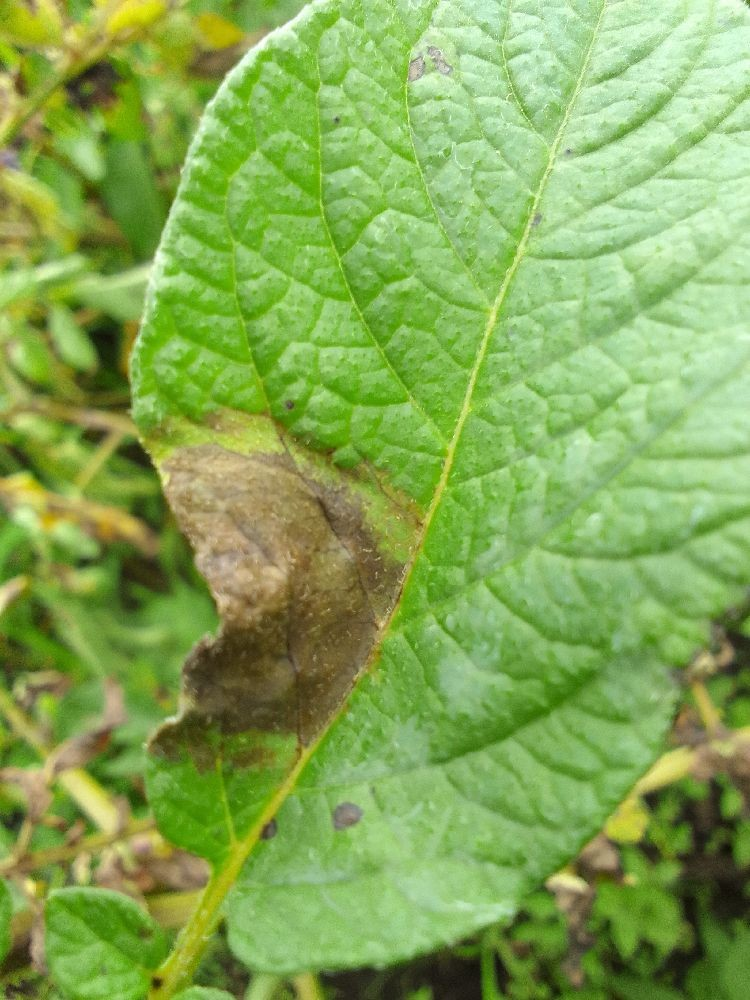late_blight: (0, 397, 444, 782), (586, 550, 750, 1000), (8, 0, 157, 129), (297, 915, 500, 1000)
